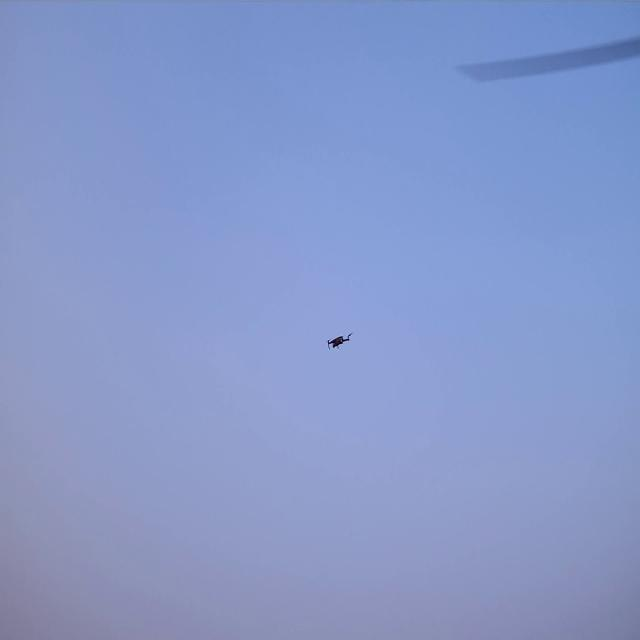UAV: (324, 330, 354, 352)
